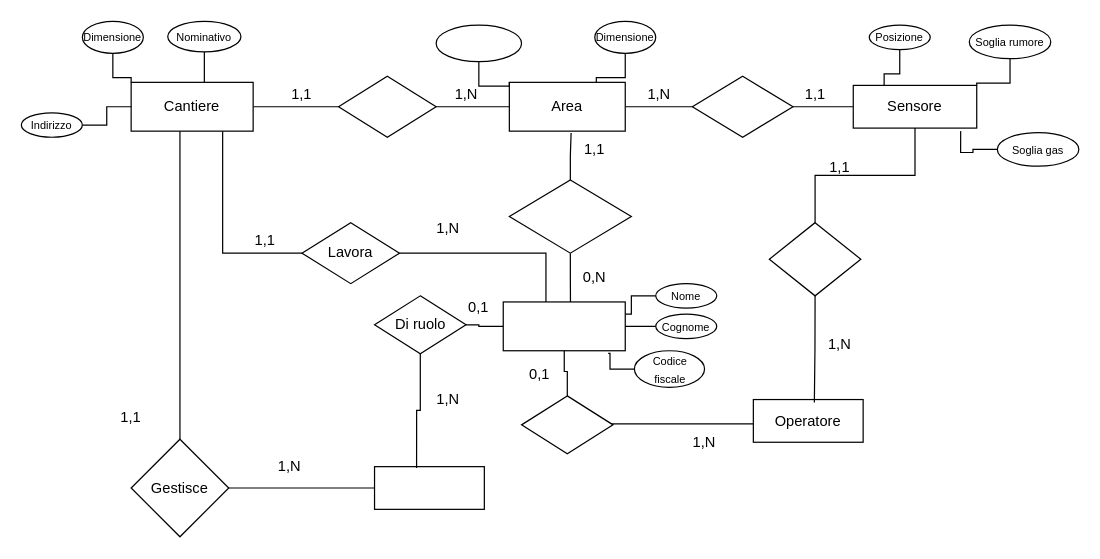
This 1100x559 diagram has some shape labels left out. Each missing label, with the centre of its shape:
"Capocantiere" goes at point 428,487.
"Diviso in" goes at point 386,106.
"Numero residenze" goes at point 478,43.
"Operaio" goes at point 563,326.
"Piazza" goes at point 814,258.
"Possiede" goes at point 742,106.
"Responsabile" goes at point 569,216.
"Tipo" goes at point 566,424.
